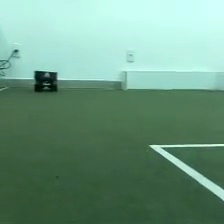goal: (118, 68, 224, 93)
robot: (33, 68, 59, 94)
